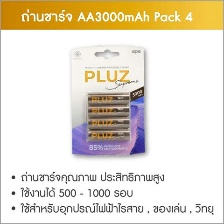battery: (82, 117, 131, 132), (86, 128, 132, 143), (85, 105, 131, 120), (85, 92, 132, 106)
book: (66, 38, 148, 159)
